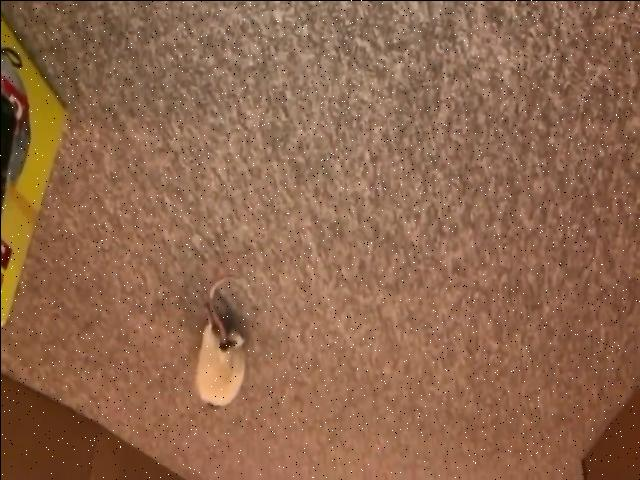Tikus: (192, 272, 248, 412)
